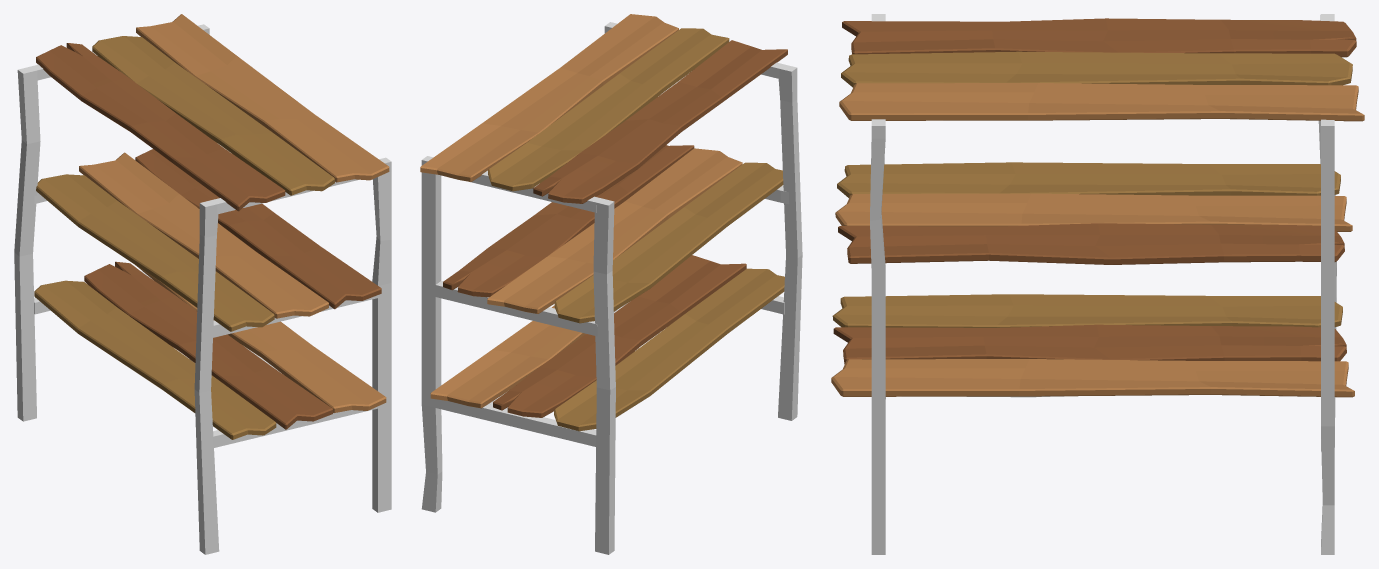
File: Shelf.fbx
3 renders of one model, left to right at view 1: azimuth 30°, elevation 25°; view 2: azimuth 150°, elevation 25°; view 3: azimuth 270°, elevation 25°, orthographic. The views are drawn at different scales.
Parts seen in each view (by area): view 1: Frame, Planken.001, Planken.003, Planken.002, Planken.008, Planken.007, Planken.005, Planken.004, Planken.006, Planken.009; view 2: Frame, Planken.001, Planken.003, Planken.002, Planken.008, Planken.005, Planken.007, Planken.004, Planken.006, Planken.009; view 3: Planken.003, Planken.006, Planken.009, Planken.001, Planken.008, Planken.002, Planken.005, Planken.007, Planken.004, Frame.
Part boxes in pixels (x1,y1,x2,y2): Frame: (14, 24, 391, 554); Planken.001: (36, 43, 285, 211); Planken.003: (136, 14, 389, 182); Planken.002: (92, 36, 334, 195); Planken.008: (84, 261, 332, 429); Planken.007: (34, 280, 276, 439); Planken.005: (79, 152, 328, 318); Planken.004: (36, 174, 274, 331); Planken.006: (135, 149, 381, 309); Planken.009: (135, 265, 386, 412); Frame: (421, 22, 802, 554); Planken.001: (533, 40, 787, 203); Planken.003: (420, 14, 678, 181); Planken.002: (488, 28, 729, 191); Planken.008: (493, 255, 746, 417); Planken.005: (487, 148, 742, 313); Planken.007: (554, 268, 784, 431); Planken.004: (554, 162, 783, 323); Planken.006: (443, 145, 694, 297); Planken.009: (430, 305, 616, 408); Planken.003: (839, 83, 1364, 121); Planken.006: (838, 223, 1344, 264); Planken.009: (831, 359, 1354, 397); Planken.001: (842, 18, 1356, 57); Planken.008: (833, 324, 1346, 364); Planken.002: (841, 51, 1352, 87); Planken.005: (835, 193, 1352, 231); Planken.007: (832, 294, 1342, 327); Planken.004: (837, 162, 1340, 197); Frame: (870, 14, 1336, 554).
Bounding box in the file's own units: 260 × 460 × 508.
